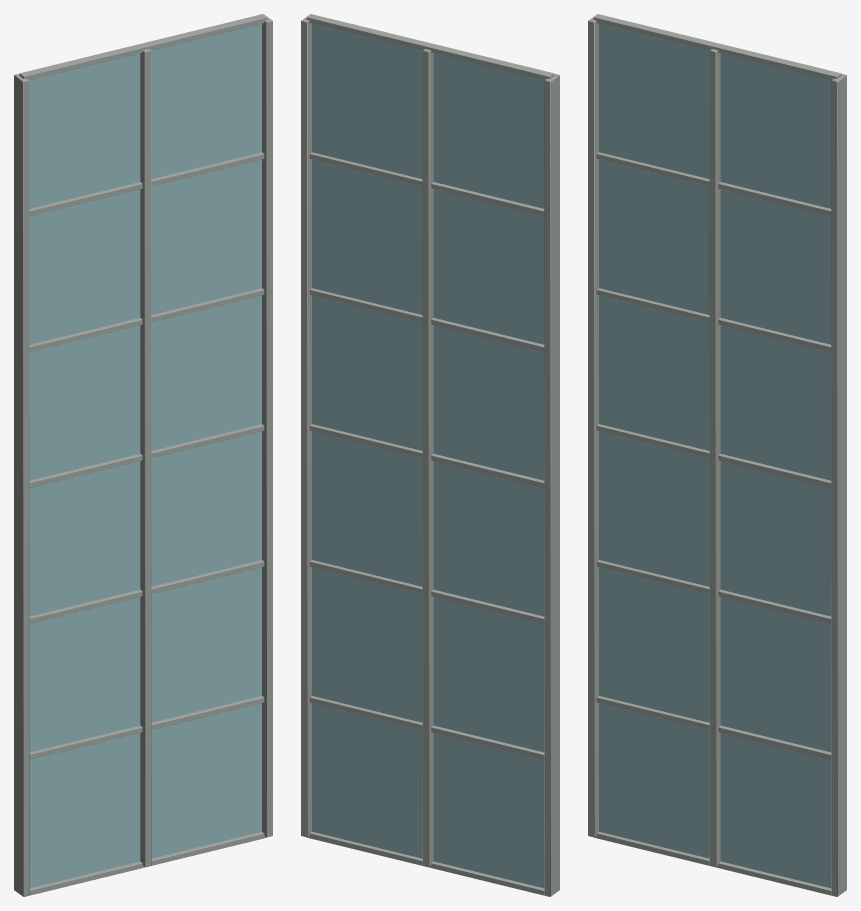
File: ap-curtain-wall-bay.glb
3 renders of one model, left to right at view 1: azimuth 30°, elevation 25°; view 2: azimuth 150°, elevation 25°; view 3: azimuth 330°, elevation 25°, orthographic.
Visible parts, largest first — view 1: glass__glass, mullions__steel; view 2: glass__glass, mullions__steel; view 3: glass__glass, mullions__steel.
Boxes of the visible parts, x1,y1,x2,y2 form: glass__glass: (29, 23, 261, 888); mullions__steel: (14, 14, 272, 896); glass__glass: (312, 23, 544, 888); mullions__steel: (301, 14, 559, 896); glass__glass: (599, 23, 831, 888); mullions__steel: (588, 14, 846, 896).
Bounding box in the file's own units: 3.08 × 9.66 × 0.2.
